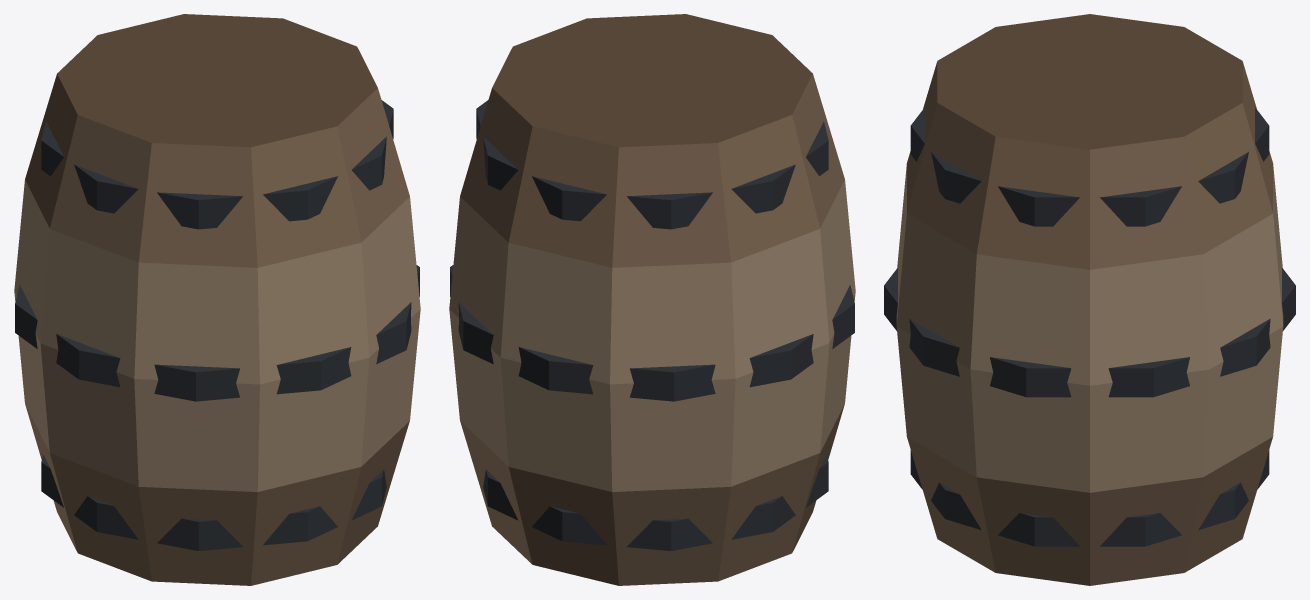
Rendered from barrel.glb.
The picture shows the model from 3 angles, left to right: view 1: azimuth 30°, elevation 25°; view 2: azimuth 150°, elevation 25°; view 3: azimuth 270°, elevation 25°; orthographic projection.
Parts seen in each view (by area): view 1: barrel; view 2: barrel; view 3: barrel.
Part boxes in pixels (box(x1,y1,x2,y2)): barrel: box(14, 14, 420, 585); barrel: box(449, 14, 855, 585); barrel: box(884, 14, 1295, 585).
Bounding box in the file's own units: 0.76 × 0.9 × 0.77.
Materials: 1 (1 with a texture image).
